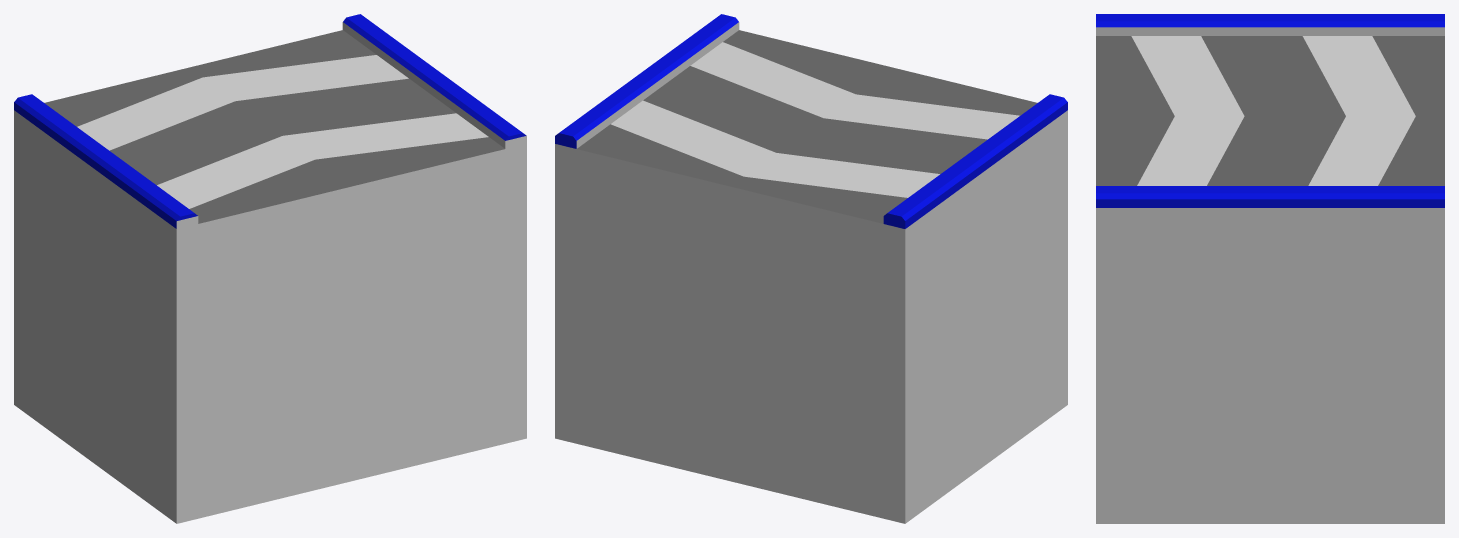
File: Path (3).fbx
The picture shows the model from 3 angles, left to right: view 1: azimuth 30°, elevation 25°; view 2: azimuth 150°, elevation 25°; view 3: azimuth 270°, elevation 25°; orthographic projection. The views are drawn at different scales.
Visible parts, largest first — view 1: Straight; view 2: Straight; view 3: Straight.
Part boxes in pixels (x1,y1,x2,y2): Straight: (14, 14, 526, 523); Straight: (555, 14, 1067, 523); Straight: (1096, 14, 1444, 523).
Bounding box in the file's own units: 13.67 × 11.44 × 11.
